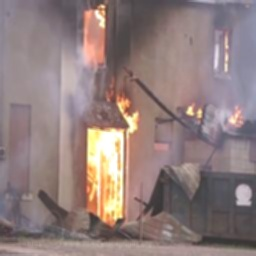fire: (88, 125, 128, 220), (81, 3, 105, 65)
